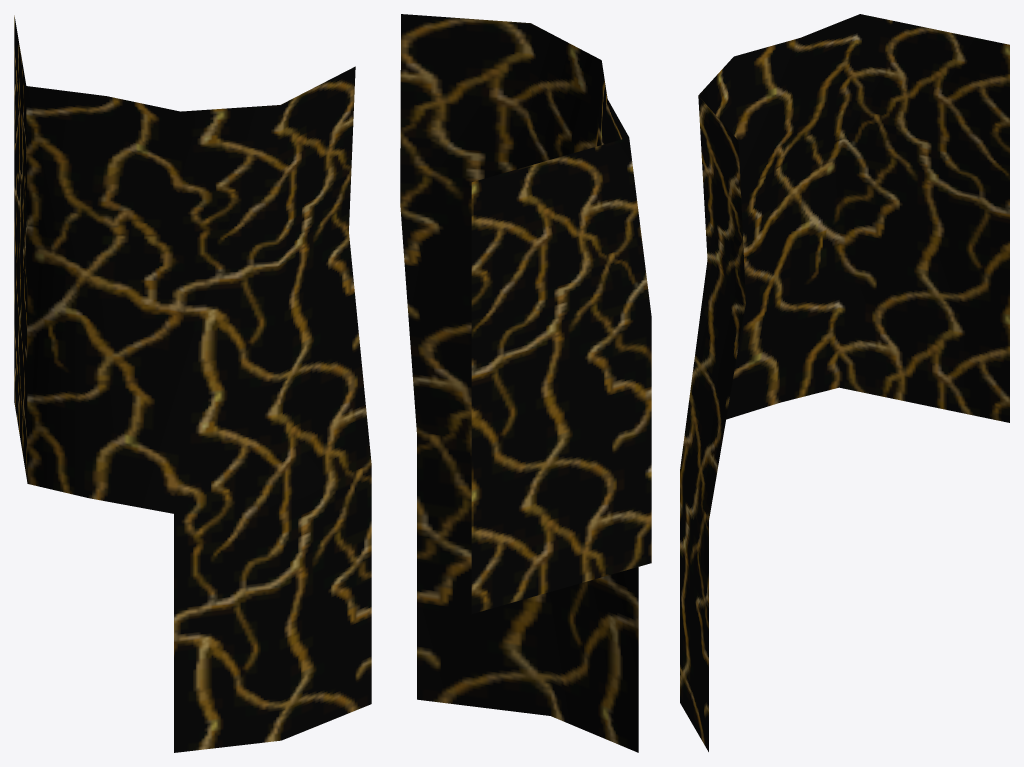
File: OVERHILL_A_01_OBJECT29.fbx
3 views of the same model, side by side, from view 1: azimuth 30°, elevation 25°; view 2: azimuth 150°, elevation 25°; view 3: azimuth 270°, elevation 25° (orthographic). The views are drawn at different scales.
Visible parts, largest first — view 1: OVERHILL_A_01_OBJECT29; view 2: OVERHILL_A_01_OBJECT29; view 3: OVERHILL_A_01_OBJECT29.
Boxes of the visible parts, left/top/right/bottom form: OVERHILL_A_01_OBJECT29: left=14, top=15, right=371, bottom=752; OVERHILL_A_01_OBJECT29: left=400, top=14, right=651, bottom=752; OVERHILL_A_01_OBJECT29: left=680, top=14, right=1009, bottom=751.
Size of the model in its own units: 22880 by 49390 by 24146.
1 material, 1 textured.
